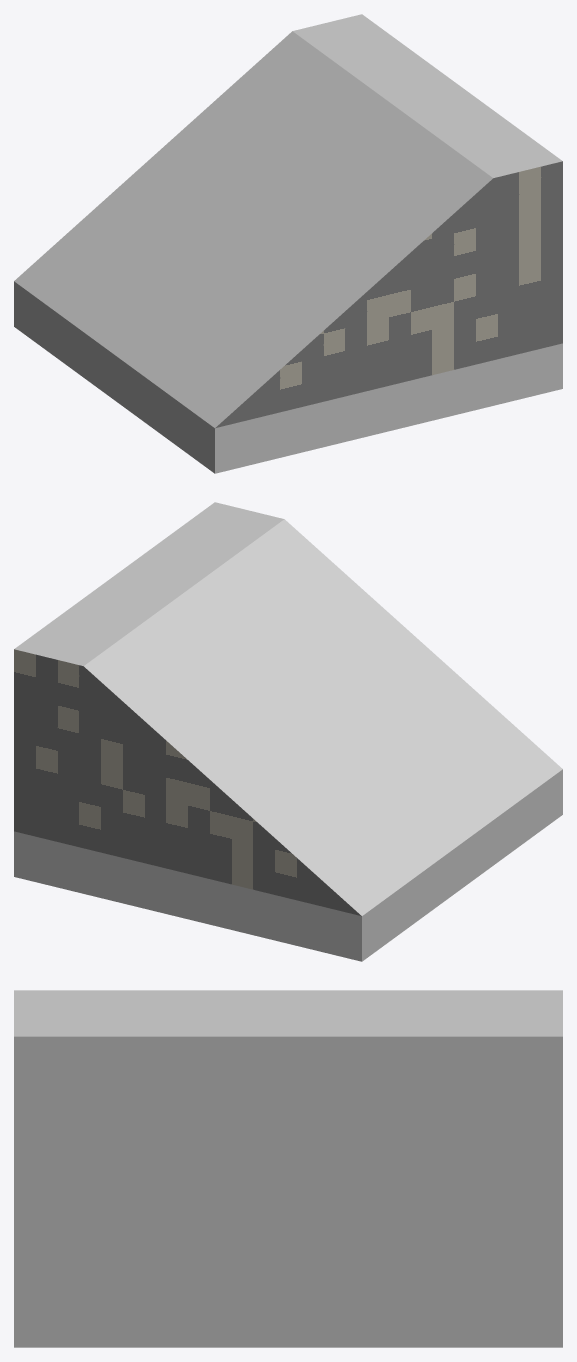
File: slope62_5_shave2_base2.obj
3 views of the same model, one above another, from view 1: azimuth 30°, elevation 25°; view 2: azimuth 150°, elevation 25°; view 3: azimuth 270°, elevation 25° (orthographic). The views are drawn at different scales.
Size of the model in its own units: 1 by 0.625 by 1.
